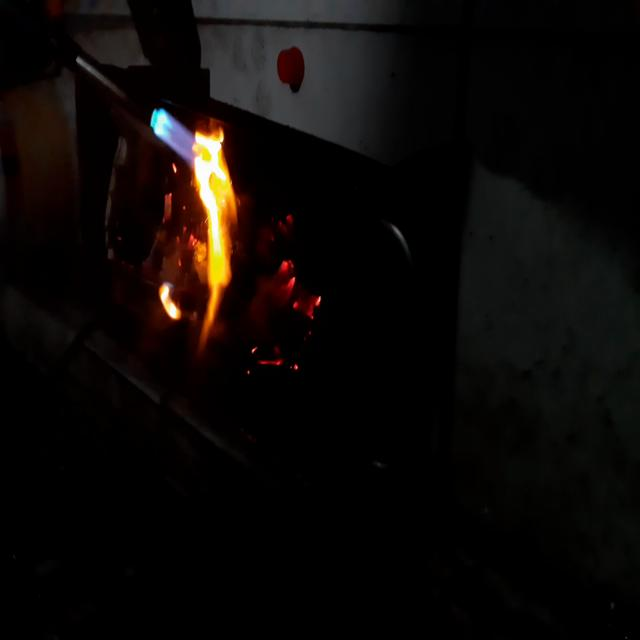Fire: (137, 95, 242, 363), (243, 203, 329, 387)
